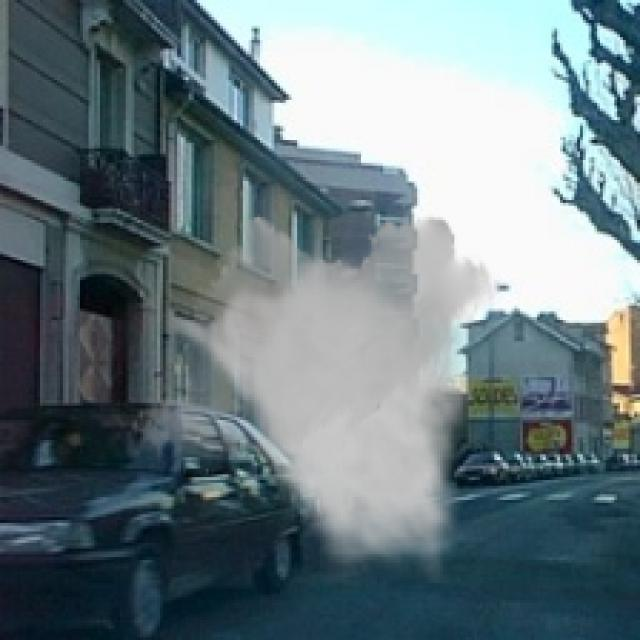Smoke: (128, 206, 503, 583)
